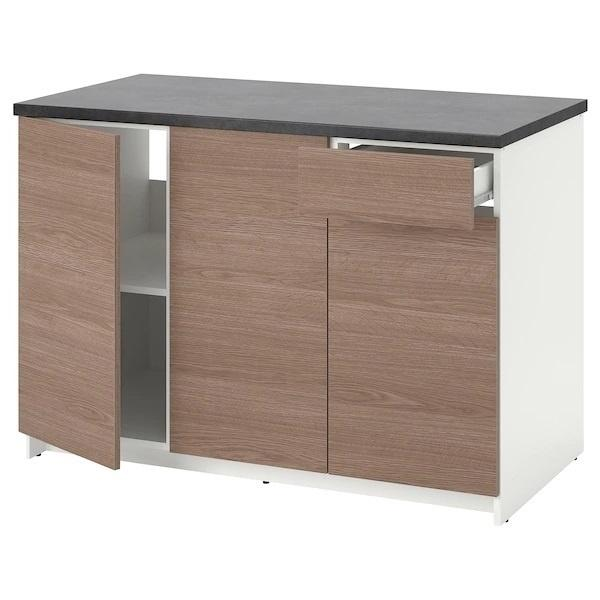cabinet_door: (175, 140, 327, 465), (325, 213, 499, 486), (18, 124, 116, 448), (298, 151, 472, 219)
